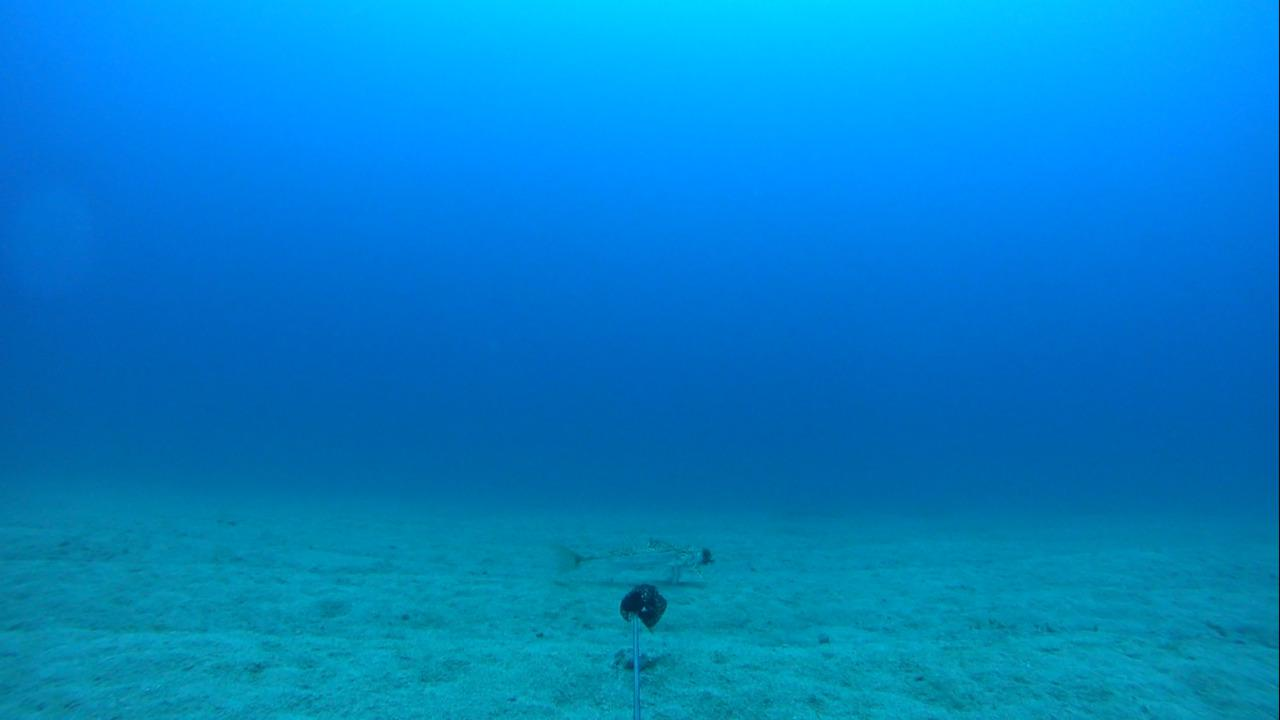dactylopterus: (540, 528, 720, 584)
